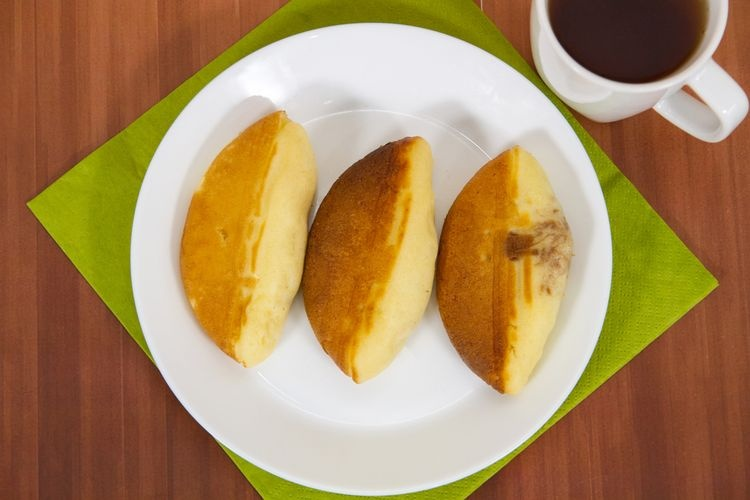pukis: (169, 101, 307, 389), (447, 129, 578, 423), (315, 104, 440, 398)
